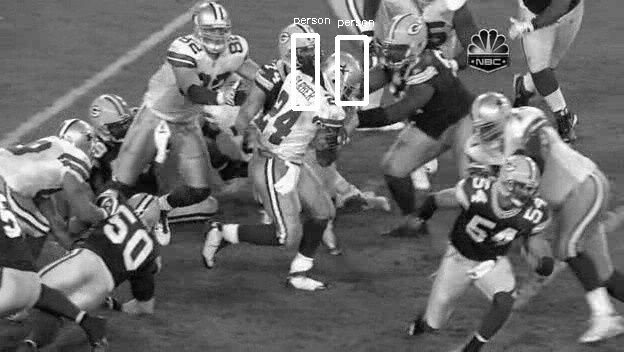person: (328, 54, 363, 98), (327, 54, 362, 98), (329, 54, 364, 98), (328, 53, 363, 97), (328, 55, 363, 99)
target_negative: (492, 88, 612, 342), (212, 20, 325, 72), (421, 263, 595, 292), (423, 193, 570, 216), (314, 257, 353, 326)
